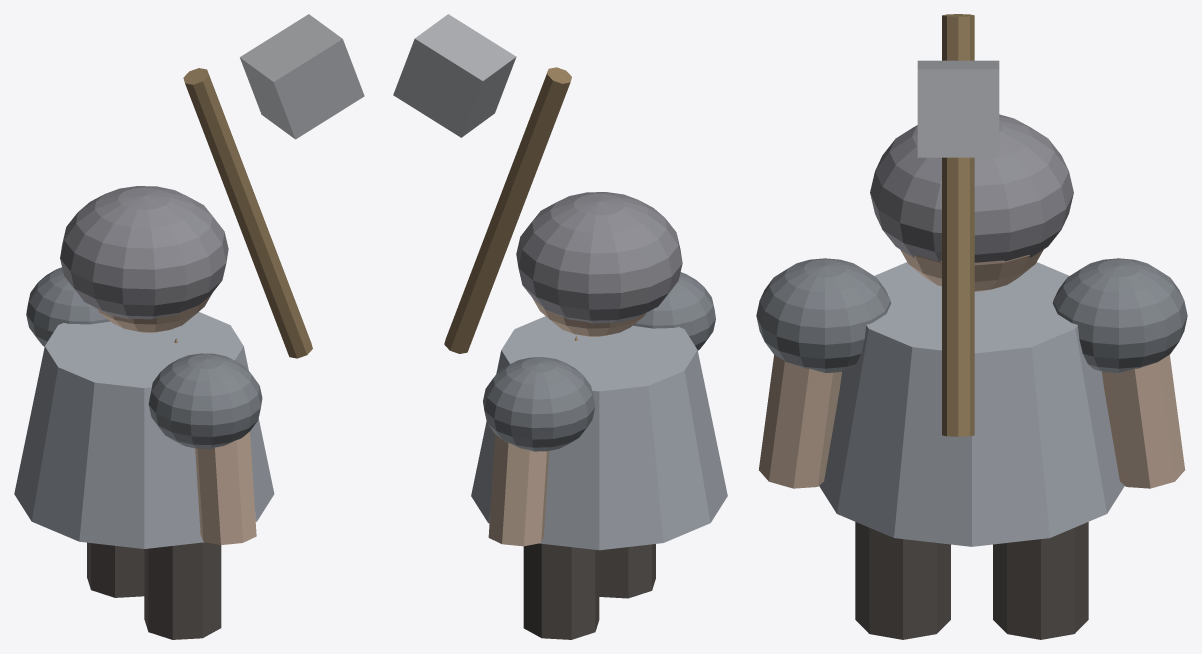
The model's file is hero_brakkar_1.glb.
3 renders of one model, left to right at view 1: azimuth 30°, elevation 25°; view 2: azimuth 150°, elevation 25°; view 3: azimuth 270°, elevation 25°, orthographic. The views are drawn at different scales.
Parts seen in each view (by area): view 1: figurka; view 2: figurka; view 3: figurka.
Part boxes in pixels (x1=…): figurka: x1=14, y1=14, x2=364, y2=639; figurka: x1=393, y1=14, x2=727, y2=639; figurka: x1=756, y1=14, x2=1187, y2=639.
Bounding box in the file's own units: 0.6322 × 1.05 × 0.6345.
